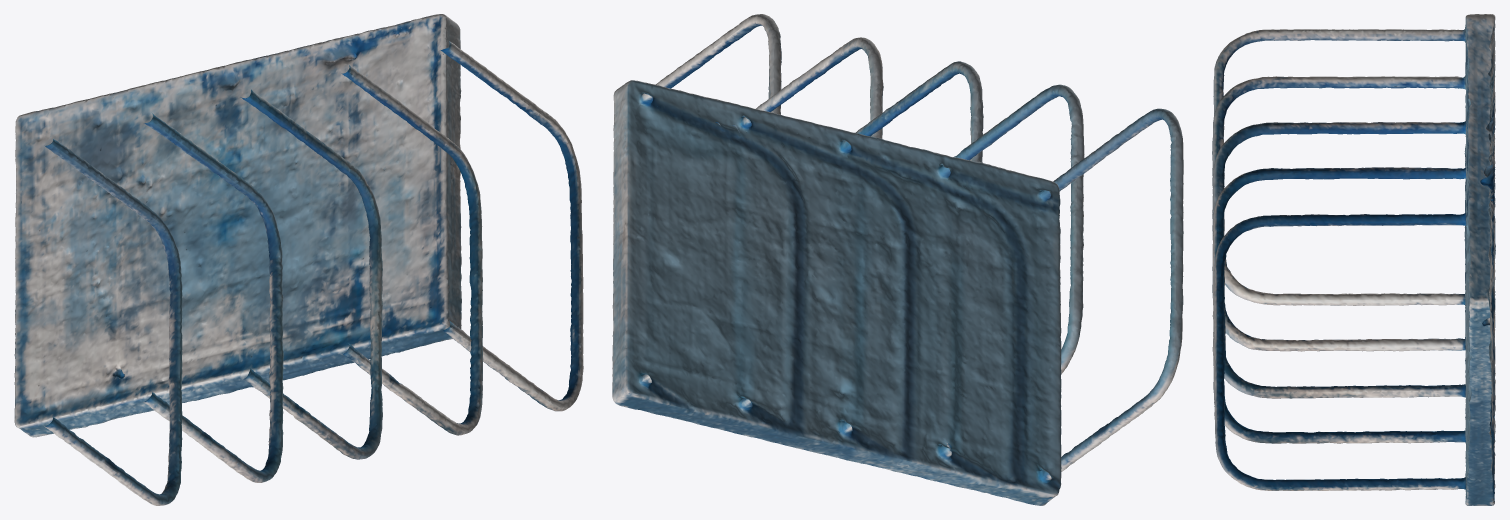
Rendered from sorter.glb.
3 renders of one model, left to right at view 1: azimuth 30°, elevation 25°; view 2: azimuth 150°, elevation 25°; view 3: azimuth 270°, elevation 25°, orthographic. The views are drawn at different scales.
Bounding box in the file's own units: 1 × 0.7046 × 0.5981.
